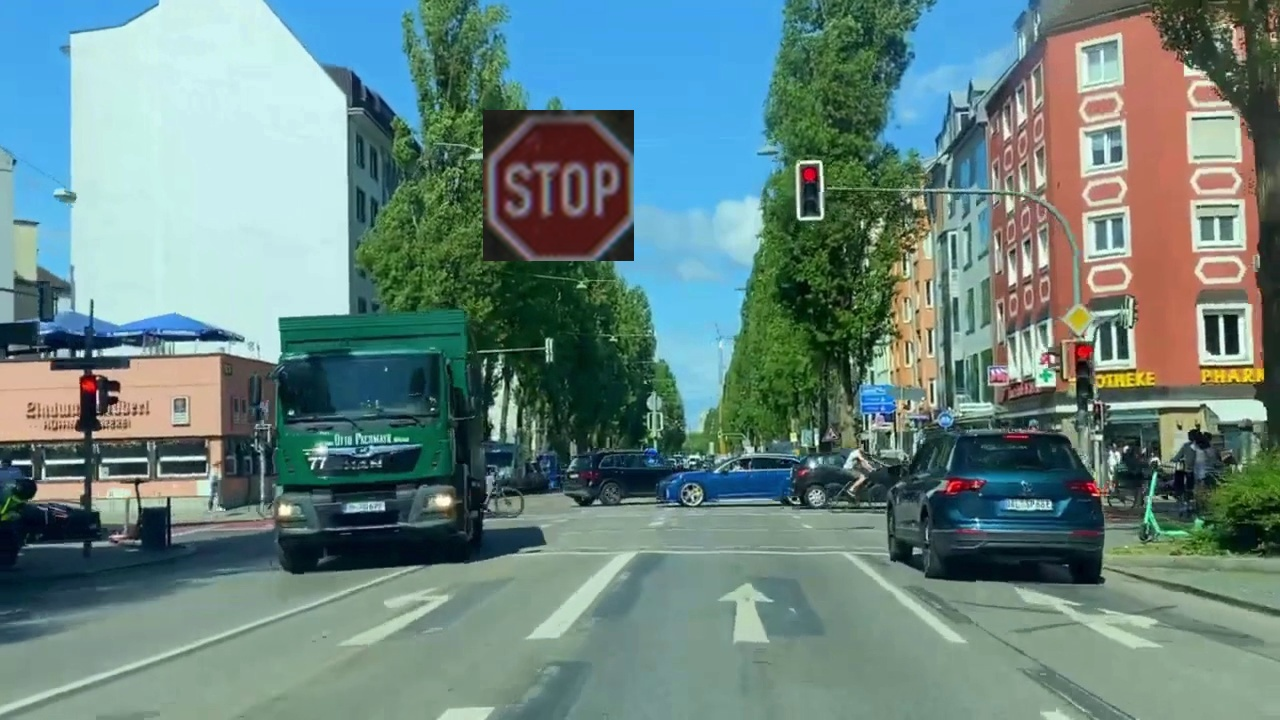Stop: (483, 110, 634, 261)
